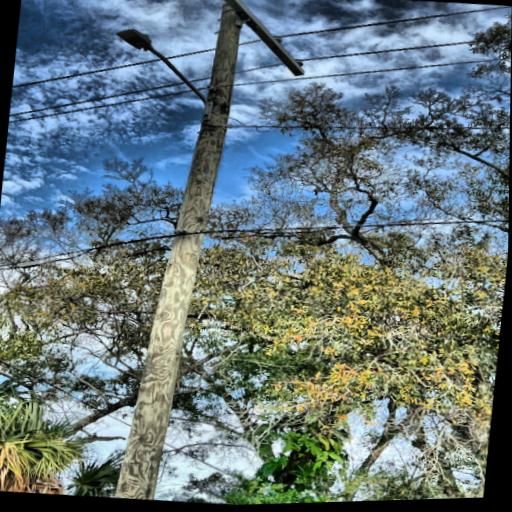pole: (74, 0, 257, 507)
street light: (102, 21, 231, 128)
